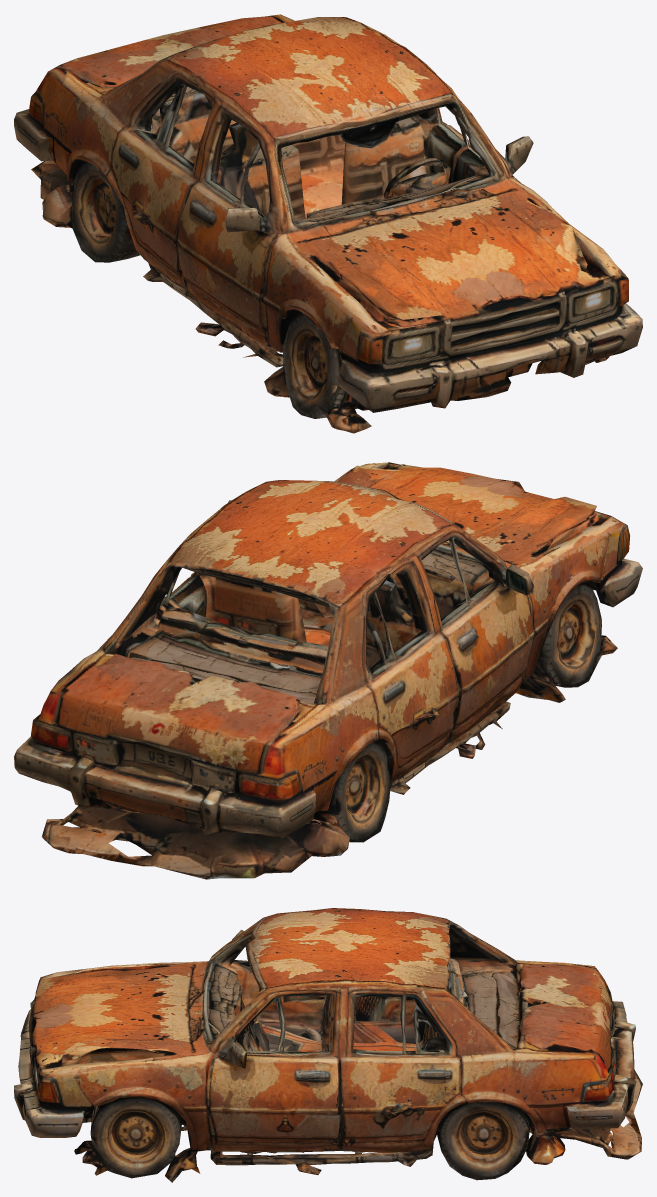
Rendered from Settle_Car.fbx.
The picture shows the model from 3 angles, top to bottom: view 1: azimuth 30°, elevation 25°; view 2: azimuth 150°, elevation 25°; view 3: azimuth 270°, elevation 25°; orthographic projection. The views are drawn at different scales.
Parts seen in each view (by area): view 1: texture_mapping; view 2: texture_mapping; view 3: texture_mapping.
Part boxes in pixels (x1=…): texture_mapping: x1=14, y1=14, x2=642, y2=433; texture_mapping: x1=14, y1=462, x2=642, y2=879; texture_mapping: x1=14, y1=908, x2=642, y2=1182.
Bounding box in the file's own units: 0.4691 × 0.999 × 0.3293.
Materials: 1 (1 with a texture image).
